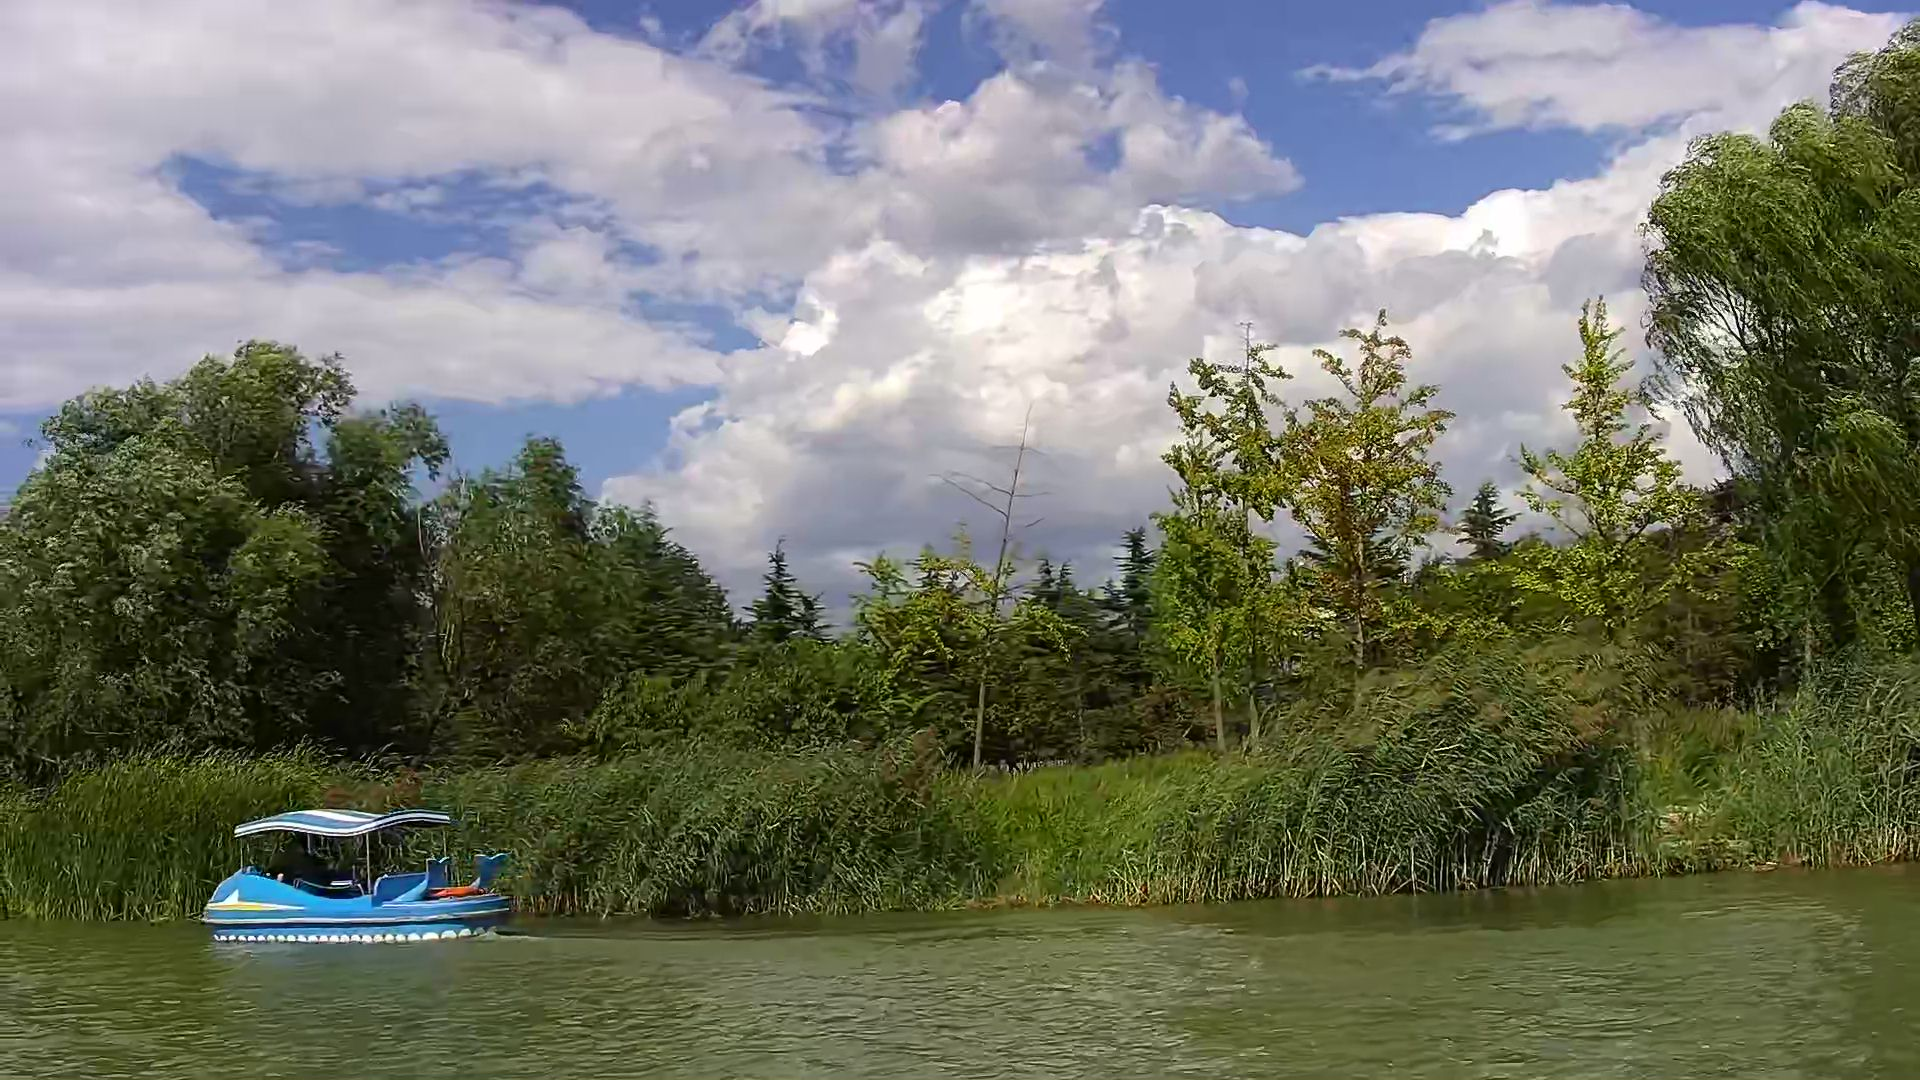boat: (204, 816, 510, 945)
